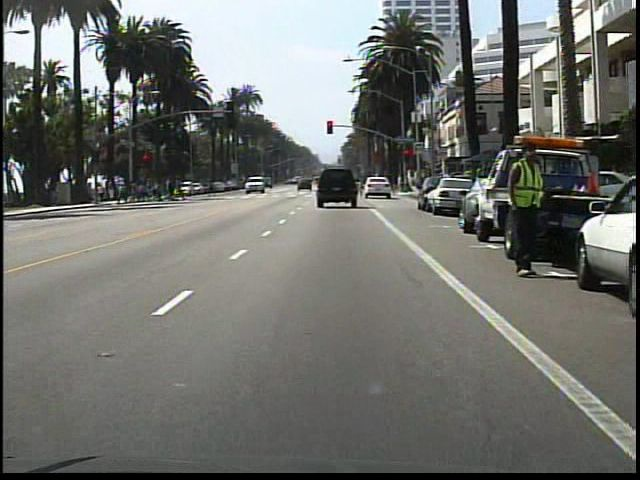person: (496, 136, 547, 279), (201, 172, 220, 201)
